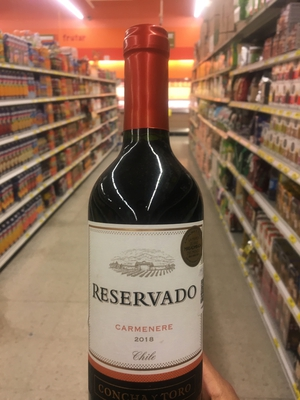reservado carmenere: (88, 22, 205, 400)
